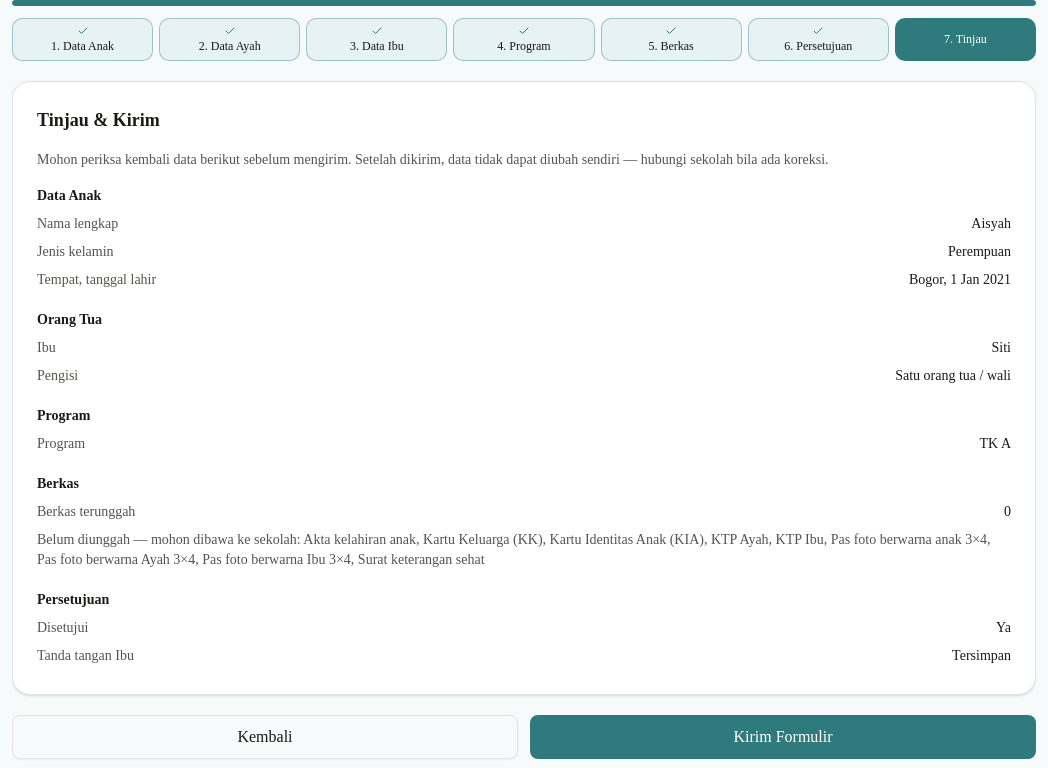
Scenario: success card after submit (R2-P-15) › lists missing documents but not the waived parent's
Click the button "Kirim Formulir": (783, 737) [530,715,1036,759]
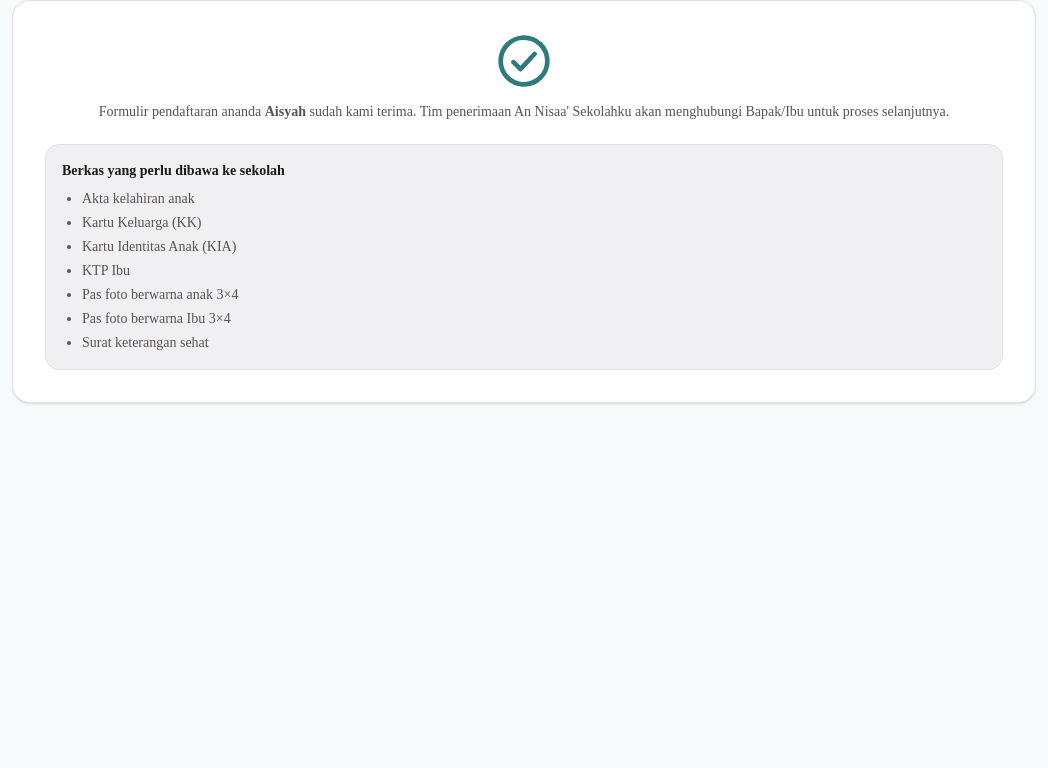
Expected: the list item "KTP Ibu" is shown, [82,263,130,278]
Expected: the heading "Berkas yang perlu dibawa ke sekolah" is shown, [62,163,285,178]
Expected: the text "KTP Ayah" is gone
